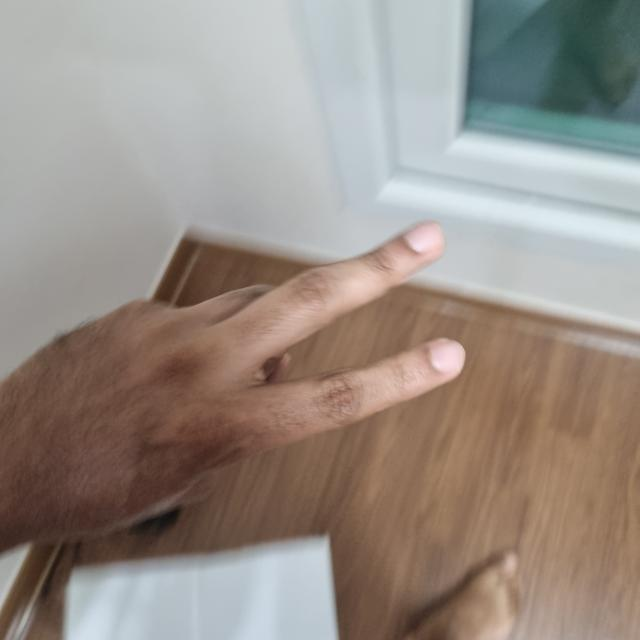Scissors: (0, 228, 462, 538)
